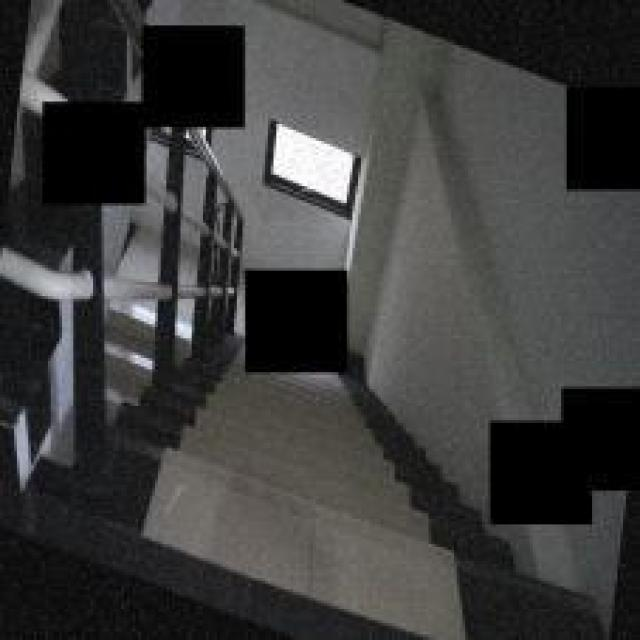downstair: (193, 385, 466, 638)
